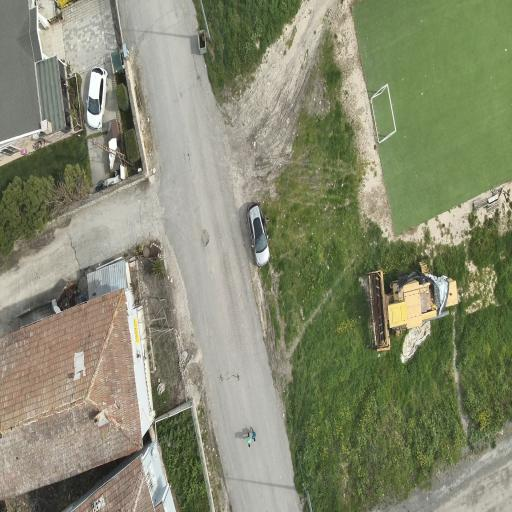car: (247, 202, 269, 266), (87, 67, 107, 130)
harvester: (368, 263, 458, 350)
person: (250, 427, 255, 441), (264, 216, 269, 228), (247, 434, 250, 447), (252, 430, 255, 441)
